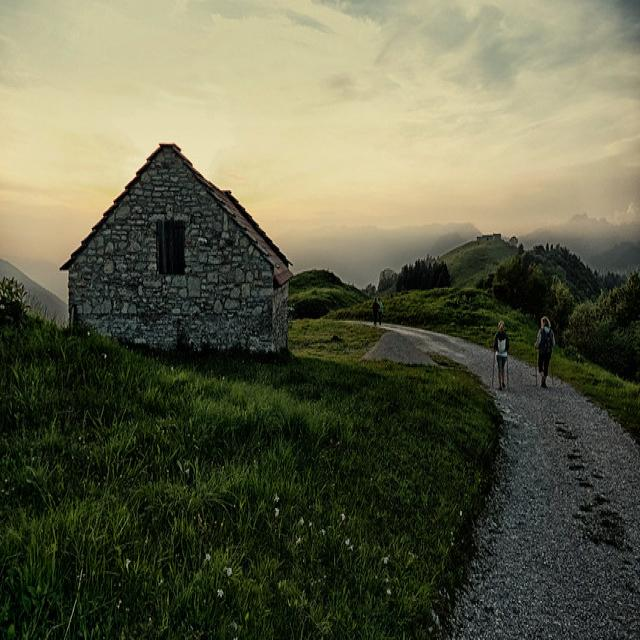Normal_building: (60, 136, 298, 378)
